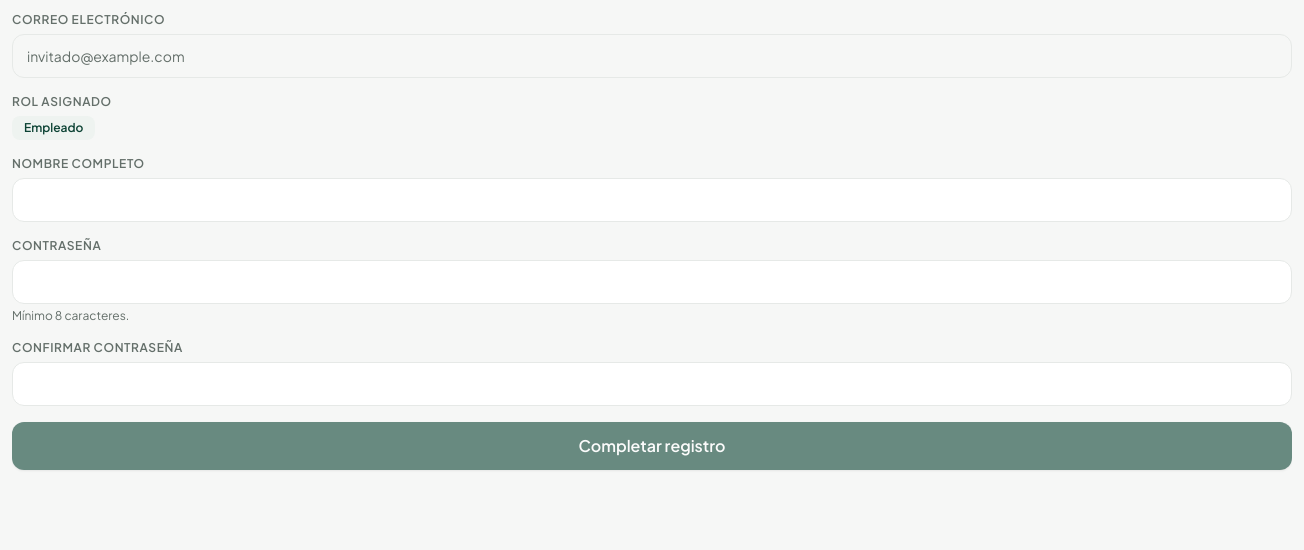
it: HU29: M5.2 - RegisterForm › manejo de errores › ante un error desconocido muestra mensaje genérico sin exponer detalles internos
The width and height of the screenshot is (1304, 550).
Type "Ada Lovelace" into the field labelled "Nombre completo". click: (652, 200)
box: [12, 178, 1292, 222]
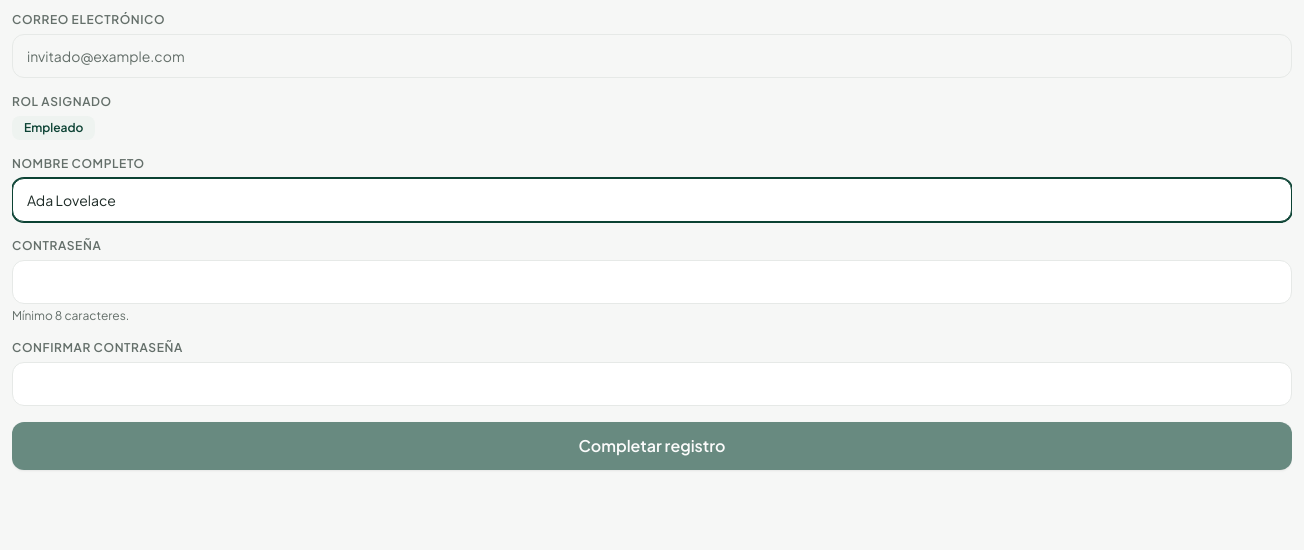
Type "clave-segura-123" into the password field labelled "Contraseña". click: (652, 282)
box: [12, 260, 1292, 304]
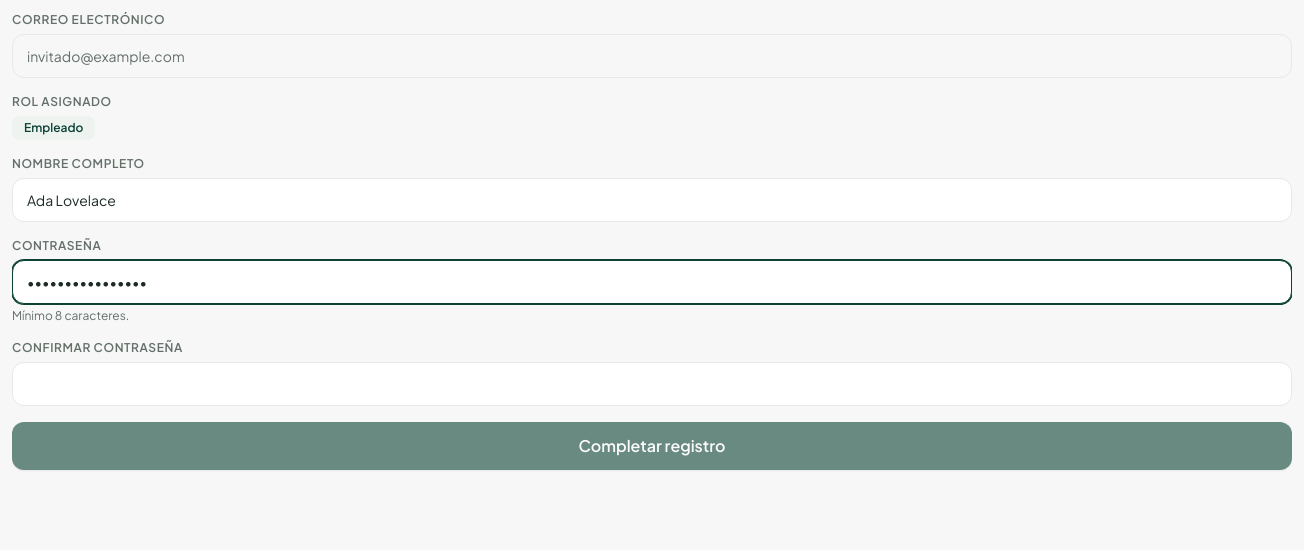
Type "clave-segura-123" into the password field labelled "Confirmar contraseña". click: (652, 384)
box: [12, 362, 1292, 406]
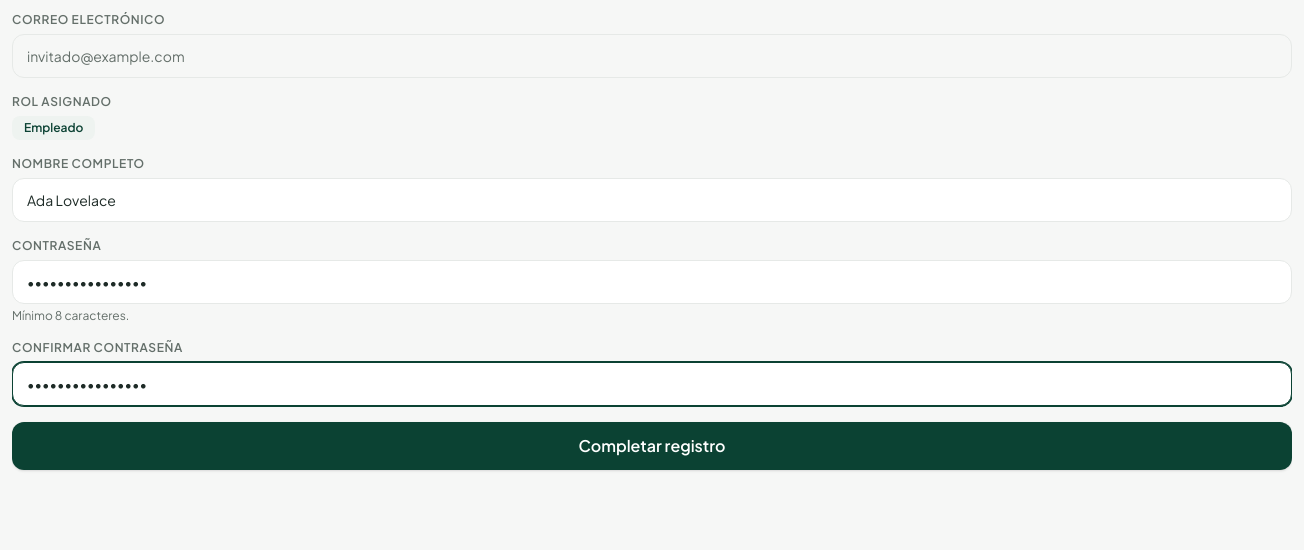
Click the button "Completar registro". click: (652, 446)
box: [12, 422, 1292, 470]
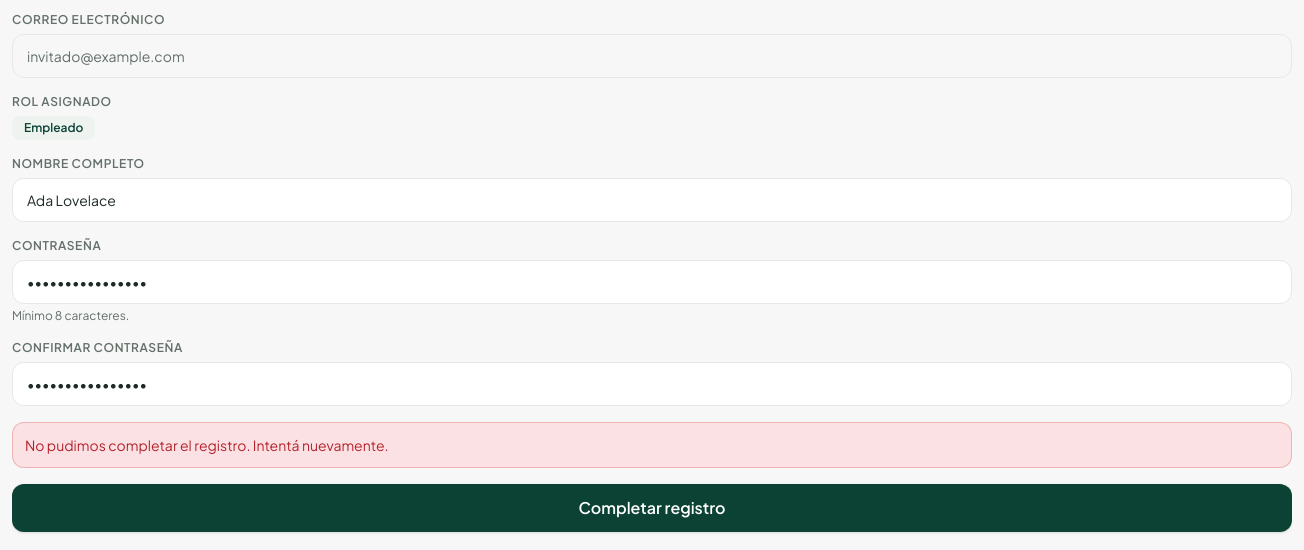
Now the message reads "No pudimos completar el registro. Intentá nuevamente.", box [25, 436, 388, 454]
